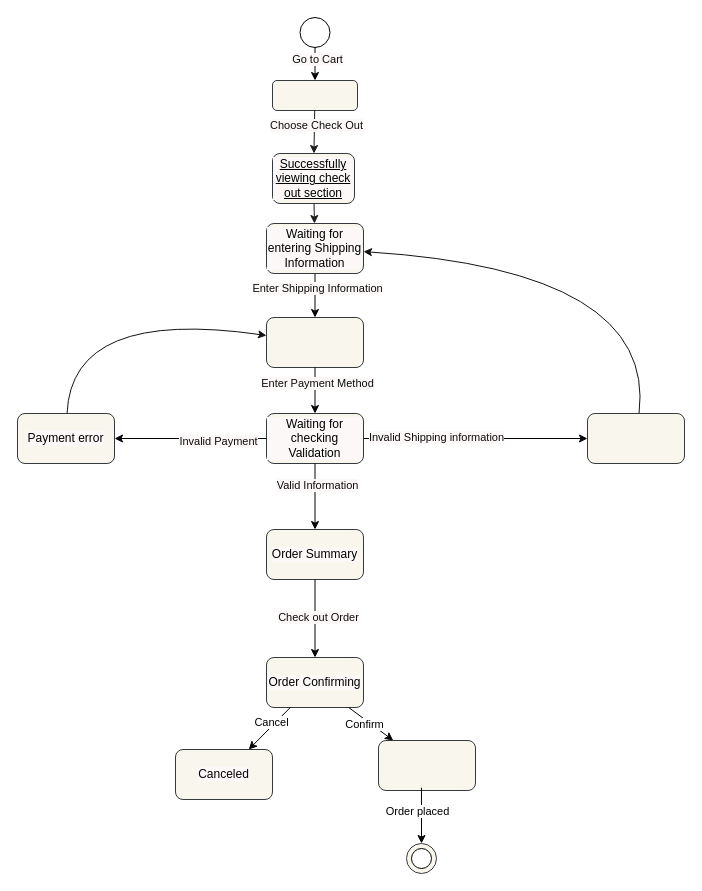
Image size: 702x891. Some labels were removed from this diagram. Here are the shapes that lost their labels. From the top down, the box of each, then its label:
(272, 80, 358, 110): Successfully viewing cart
(266, 316, 364, 368): Waiting for selecting Payment method
(586, 412, 684, 464): Shipping Information error
(378, 740, 476, 790): Successful
